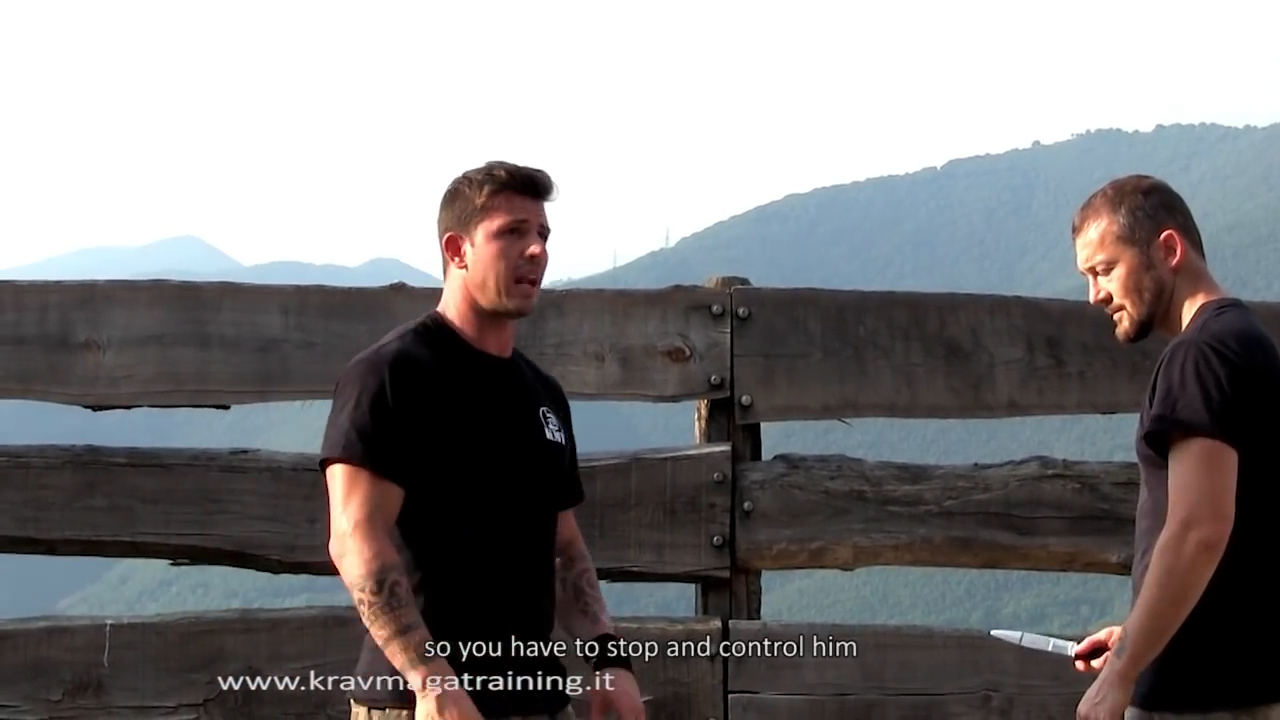knife: (969, 618, 1106, 677)
